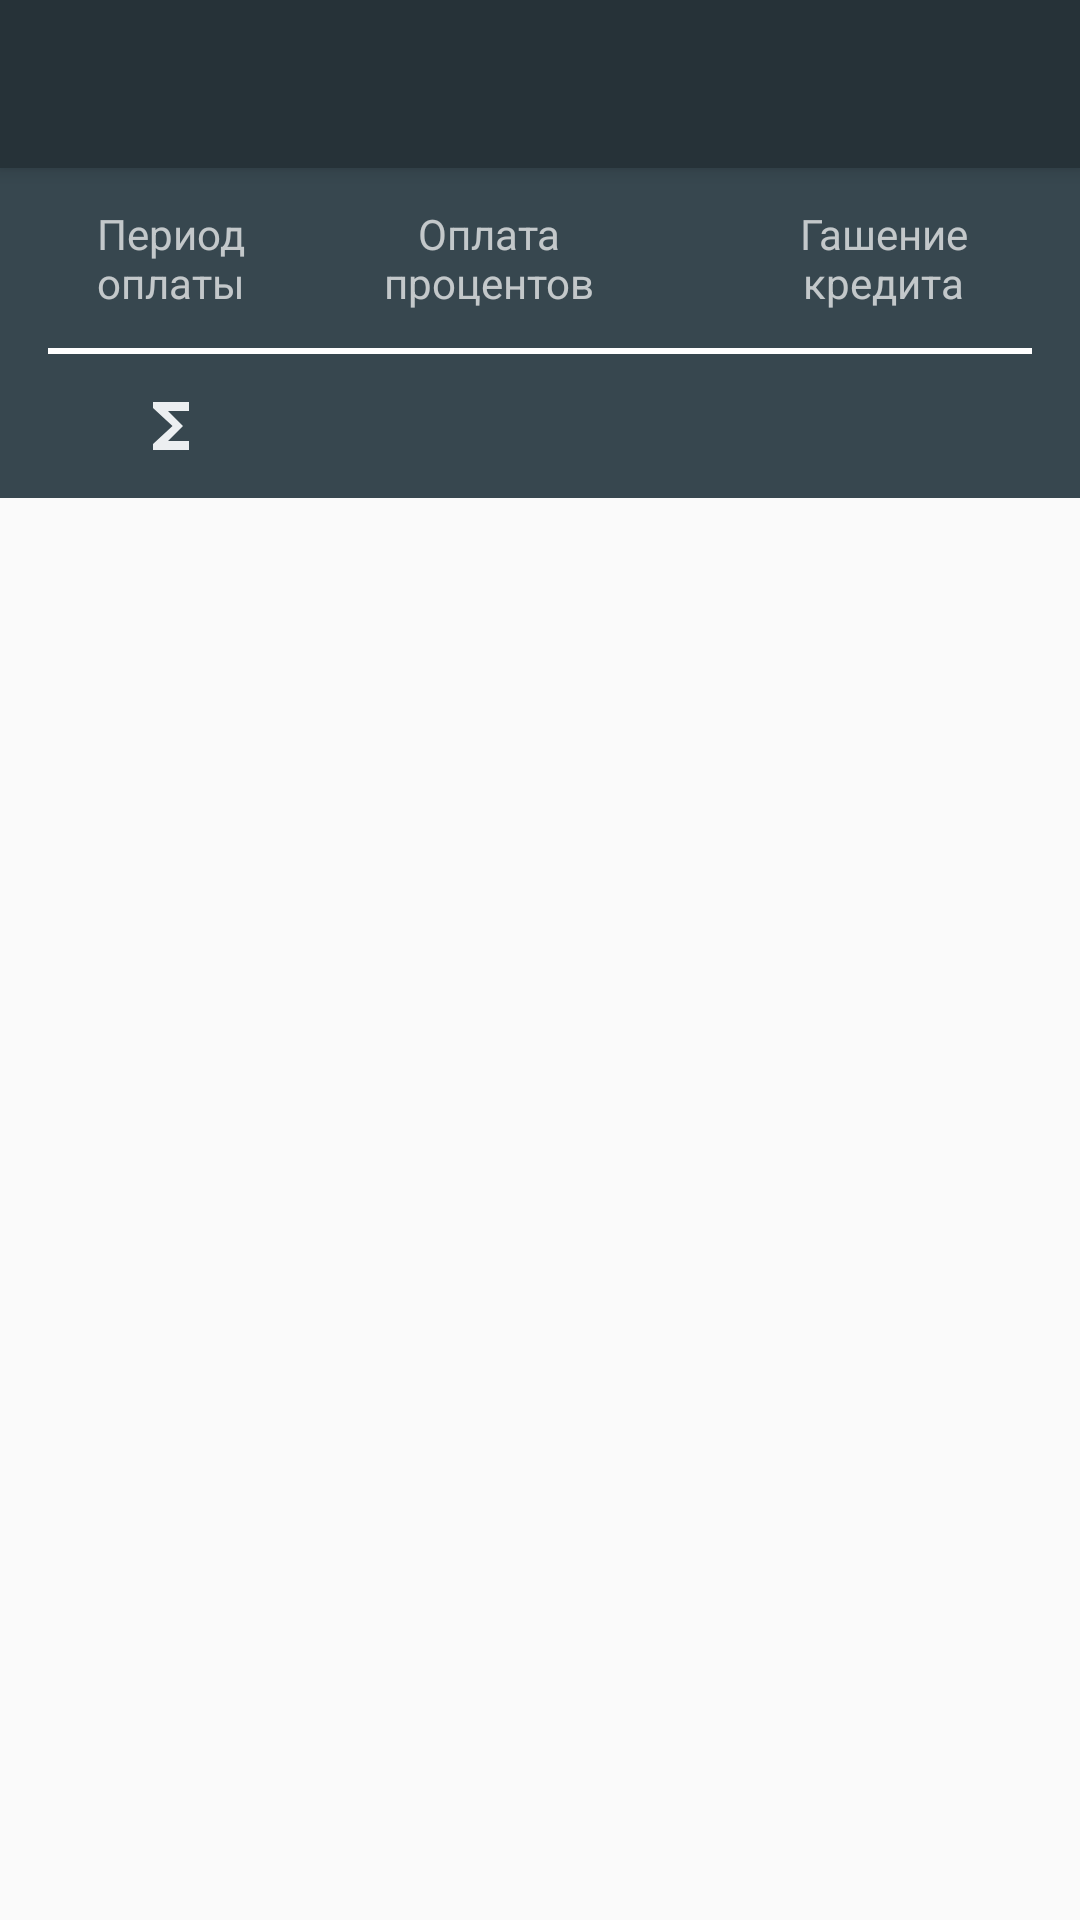

Screen size 1080 × 1920. Icon name, then its box in pixels as Rect(x1, y1, x2, y2):
functions: Rect(153, 402, 189, 450)
